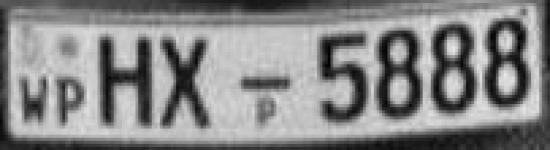-: (238, 69, 296, 96)
5: (308, 28, 370, 132)
8: (370, 22, 426, 125), (425, 19, 479, 120), (480, 14, 534, 115)
H: (92, 28, 156, 134)
P: (50, 69, 90, 130)
W: (14, 70, 51, 126)
X: (156, 27, 219, 137)
